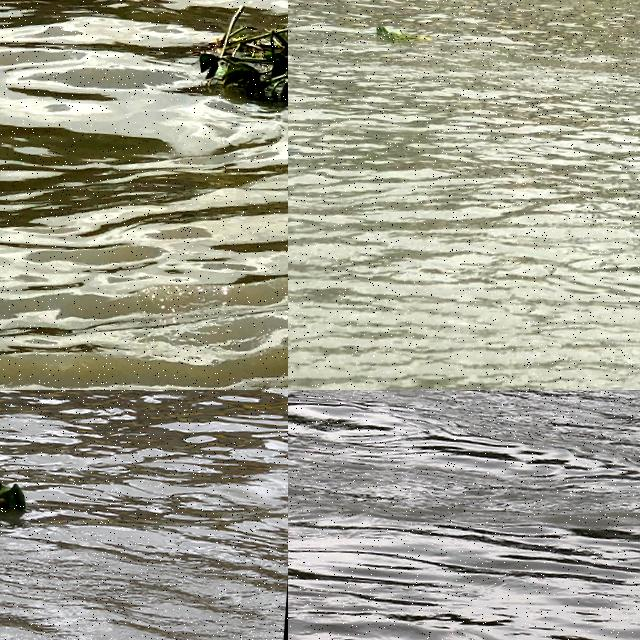water-hyacinth: (1, 399, 190, 560), (195, 11, 289, 109), (546, 1, 640, 33), (594, 1, 625, 13)
